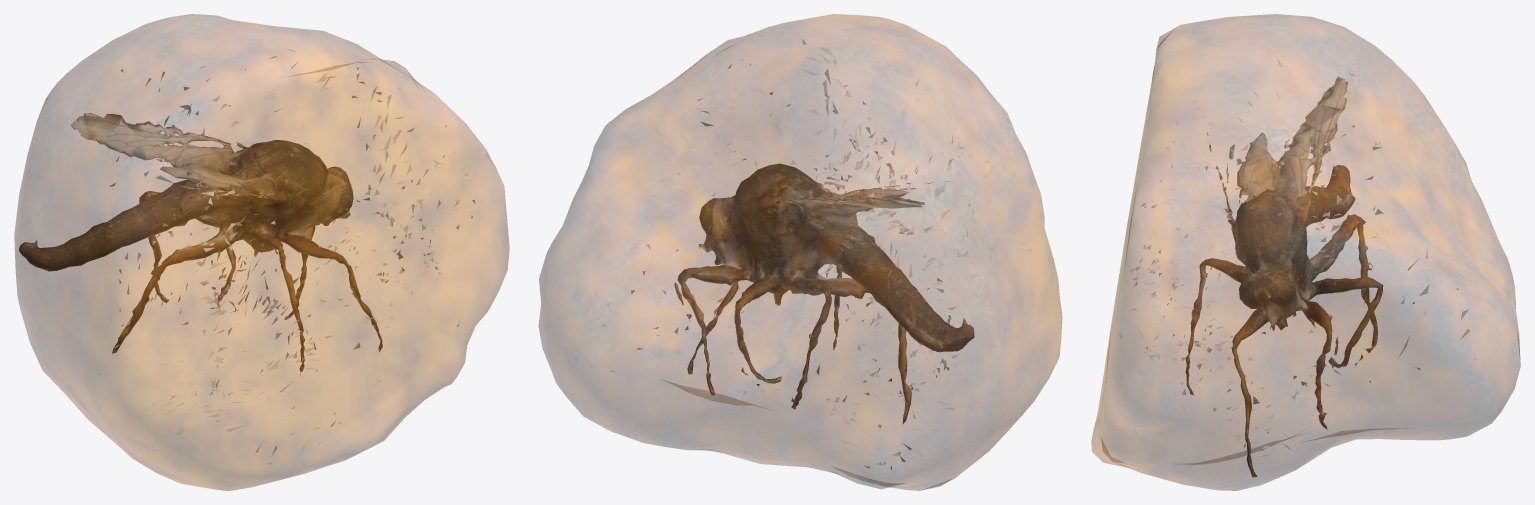
File: bernstein.glb
3 views of the same model, side by side, from view 1: azimuth 30°, elevation 25°; view 2: azimuth 150°, elevation 25°; view 3: azimuth 270°, elevation 25° (orthographic). The views are drawn at different scales.
Visible parts, largest first — view 1: 5_amber_lr, 2_mosquito_lr, 6_eclats; view 2: 5_amber_lr, 2_mosquito_lr, 6_eclats; view 3: 5_amber_lr, 2_mosquito_lr, 6_eclats.
Boxes of the visible parts, box(x1,y1,x2,y2) form: 5_amber_lr: box(14, 14, 509, 490); 2_mosquito_lr: box(19, 113, 382, 371); 6_eclats: box(98, 49, 475, 464); 5_amber_lr: box(538, 14, 1062, 490); 2_mosquito_lr: box(674, 163, 974, 423); 6_eclats: box(596, 39, 1036, 469); 5_amber_lr: box(1091, 14, 1520, 490); 2_mosquito_lr: box(1185, 76, 1383, 477); 6_eclats: box(1109, 58, 1476, 456).
Bounding box in the file's own units: 0.0972 × 0.0997 × 0.0878.
Materials: 3 (2 with a texture image).
